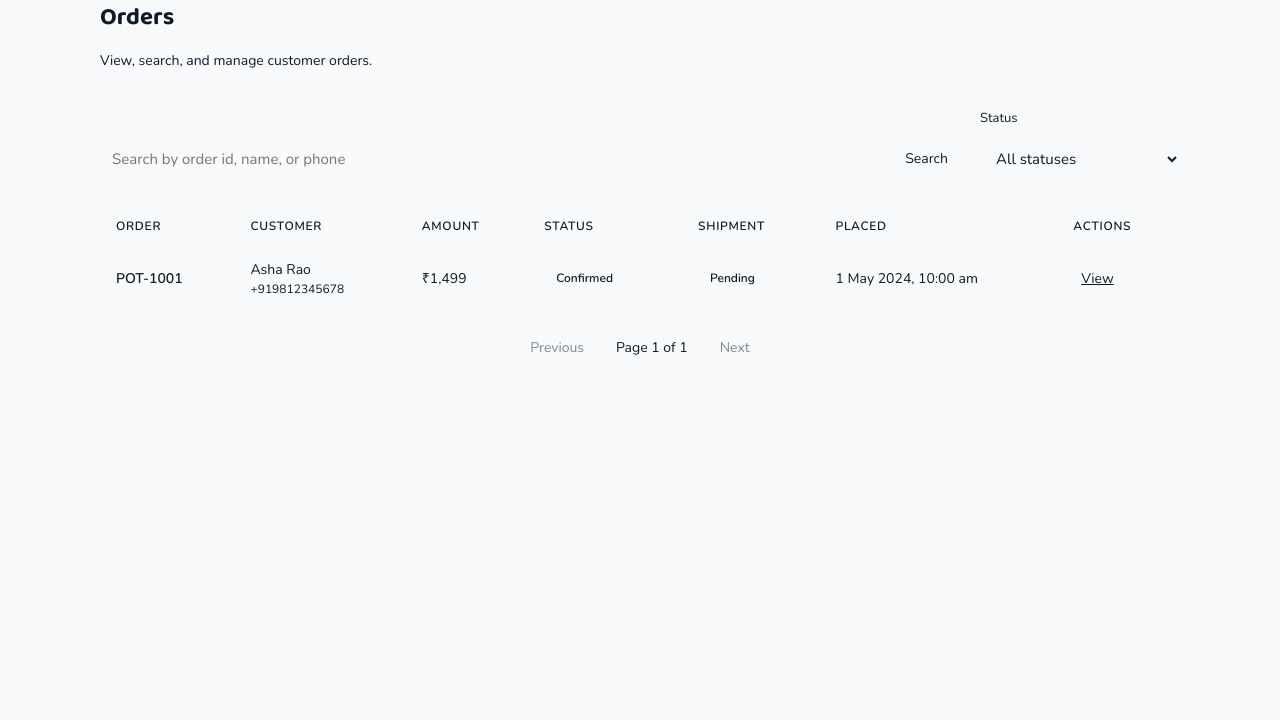
Scenario: Admin OrdersPage (Req 17) › opens order detail with customer, payment, shipment, and timeline (Req 17.2)
The image size is (1280, 720).
Expected: the text "POT-1001" is shown, [116,268,183,288]
Click the button "View" at (1098, 278), box [1073,264,1122,292]
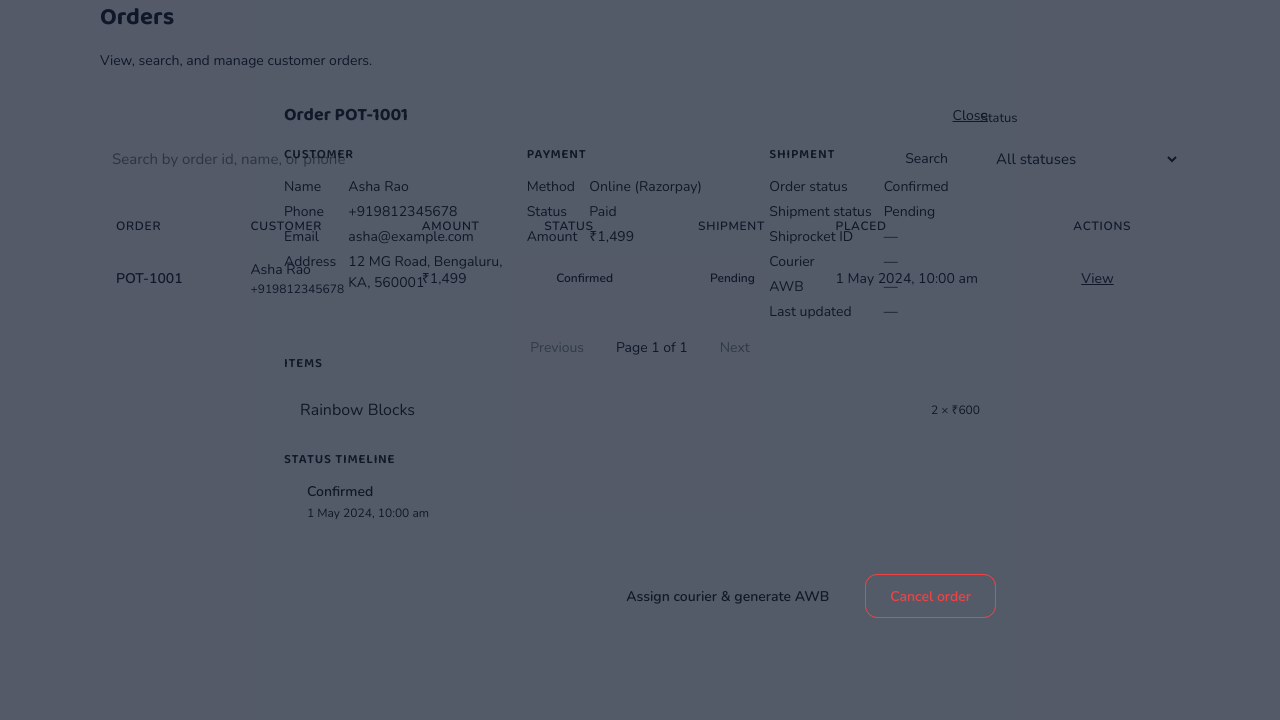
Result: the text "asha@example.com" is shown at [348,227,474,246]
Result: the text "Online (Razorpay)" is shown at [589,177,702,196]
Result: the text "Paid" is shown at [589,202,617,221]
